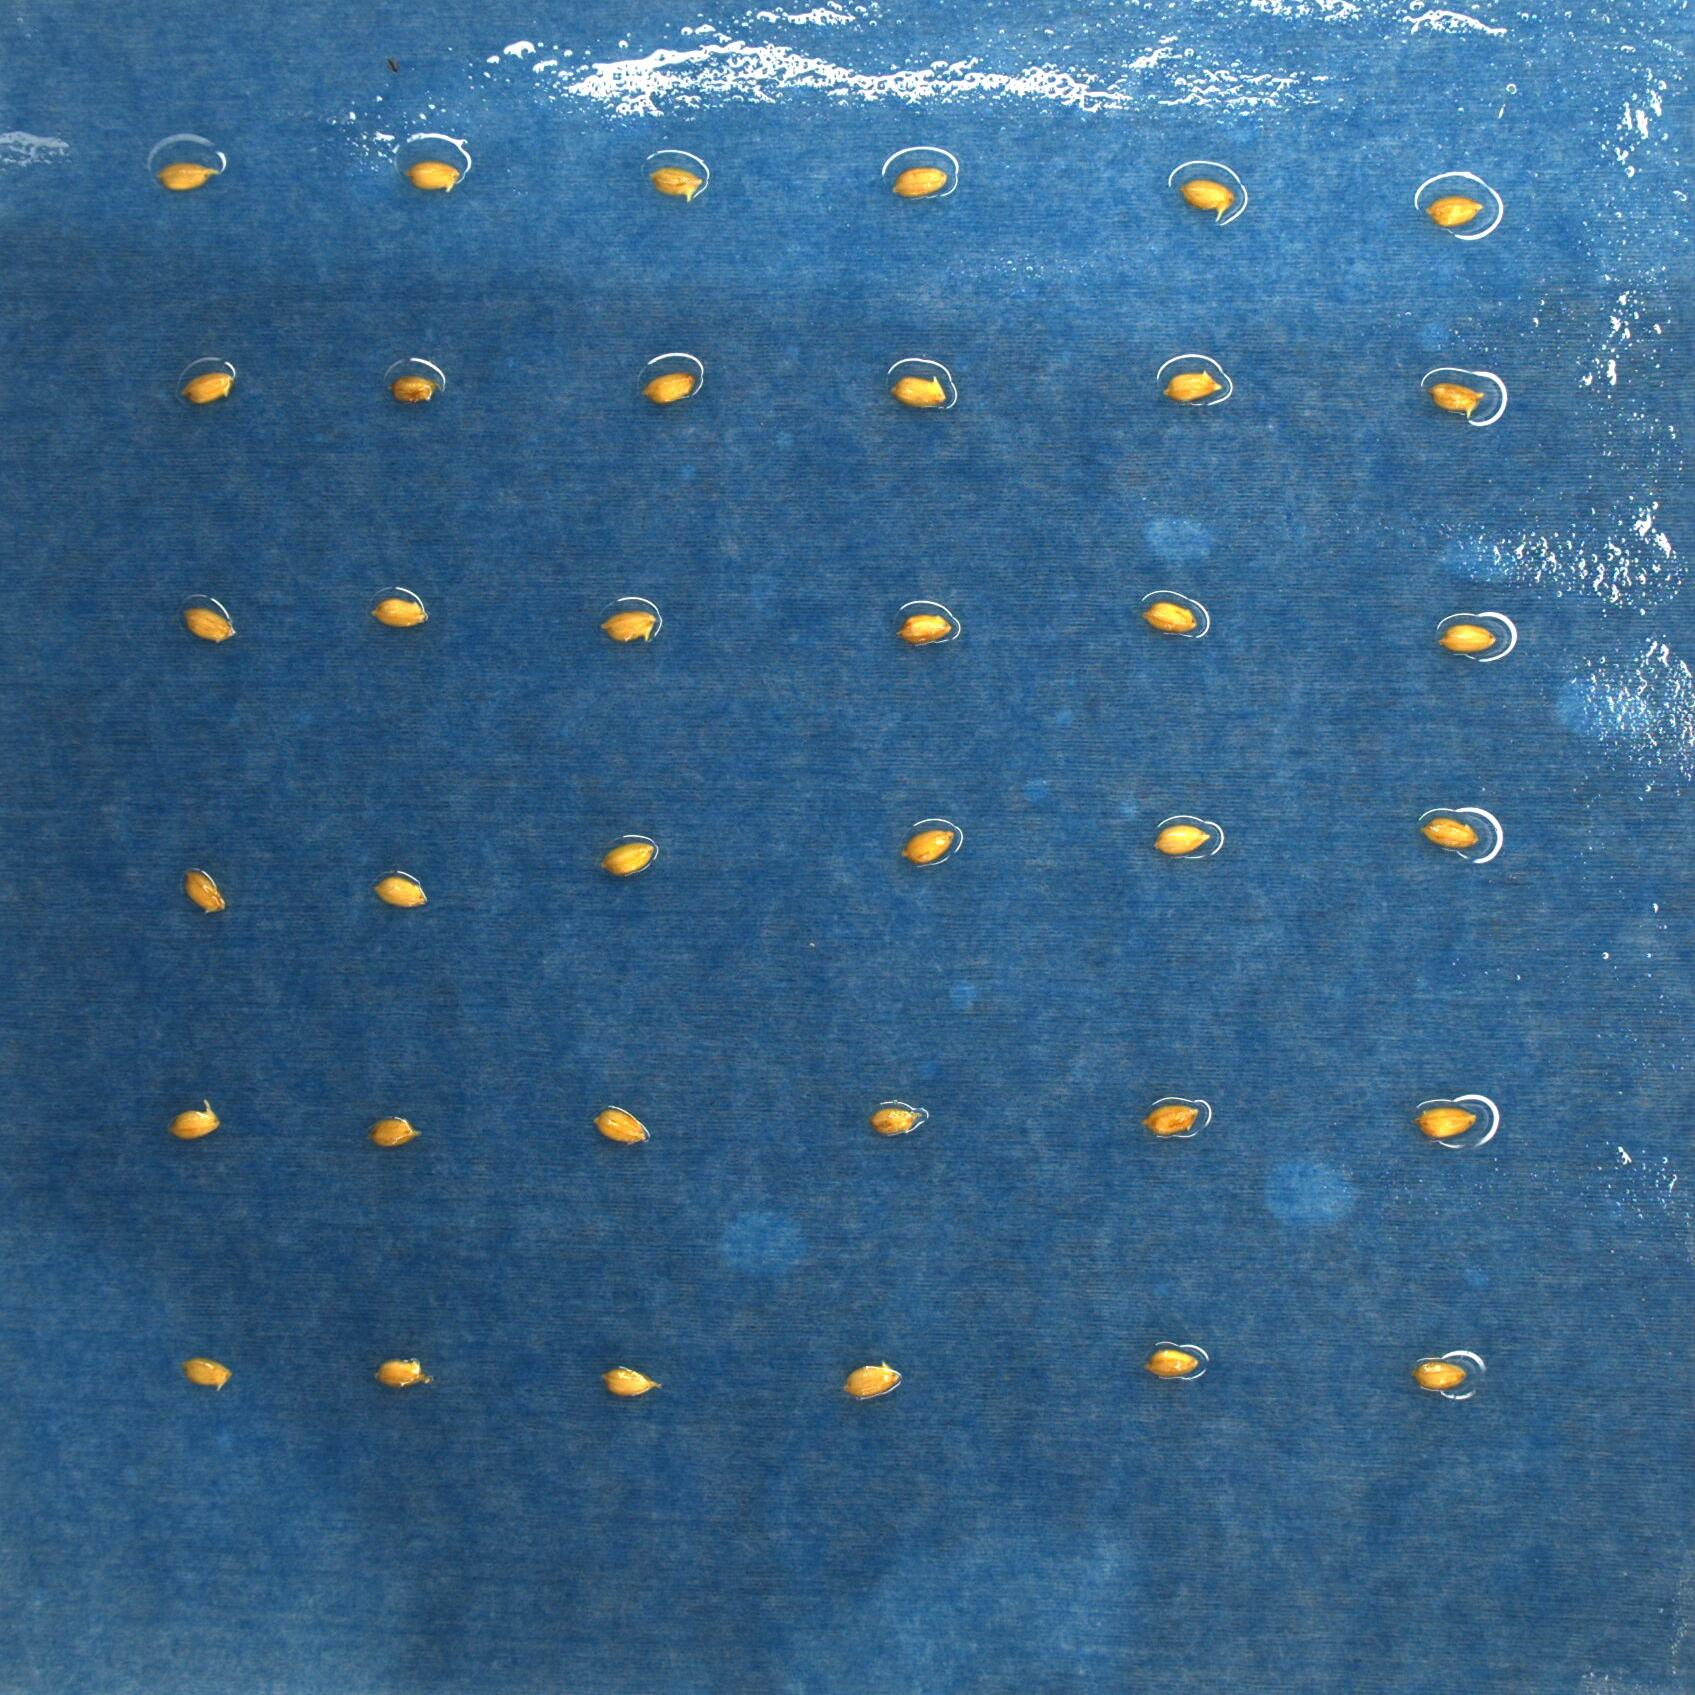not sprout: (1180, 179, 1246, 225), (841, 1361, 908, 1405), (886, 374, 955, 411), (1139, 1101, 1205, 1139), (591, 1107, 653, 1147), (900, 827, 959, 869), (1426, 379, 1489, 418), (180, 868, 227, 919), (1144, 1346, 1205, 1385), (168, 1097, 216, 1146), (1139, 601, 1201, 638), (868, 1105, 930, 1142), (640, 366, 698, 405), (366, 1113, 425, 1152), (1419, 813, 1479, 851), (1414, 1107, 1482, 1139), (1150, 823, 1212, 858), (601, 1364, 663, 1400), (647, 163, 706, 200), (601, 841, 660, 879), (373, 872, 430, 910), (598, 610, 660, 644), (1412, 1354, 1467, 1392), (1164, 369, 1223, 405), (1426, 192, 1485, 227), (183, 604, 234, 643), (154, 158, 220, 188), (179, 1354, 231, 1391), (894, 165, 951, 199), (903, 612, 953, 650), (407, 158, 466, 191), (1439, 621, 1496, 653), (182, 371, 234, 405), (379, 1357, 432, 1391), (371, 598, 432, 627), (386, 373, 441, 405)
